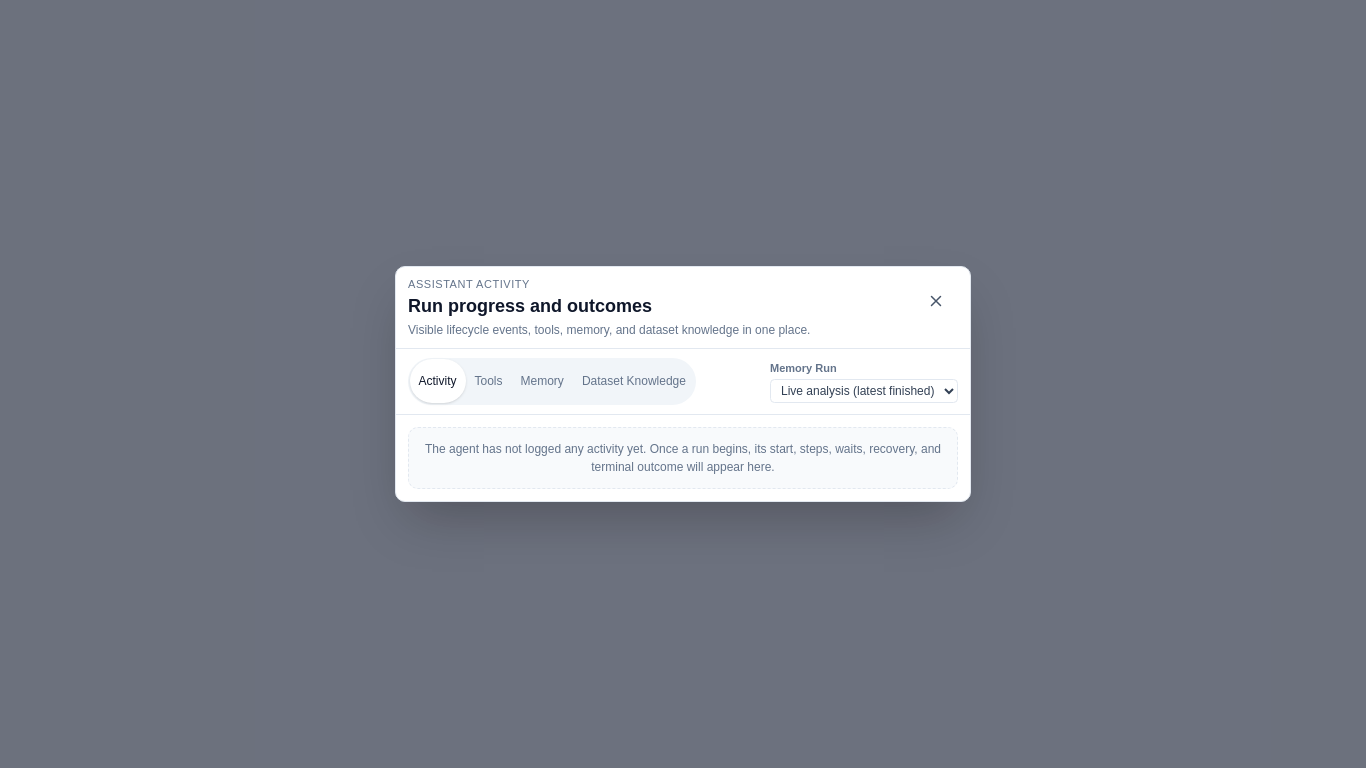
Test: agent monitor progressive disclosure › keeps tool payloads collapsed until technical details are requested
Click the button "Tools".
click(488, 381)  # box [466, 359, 512, 403]
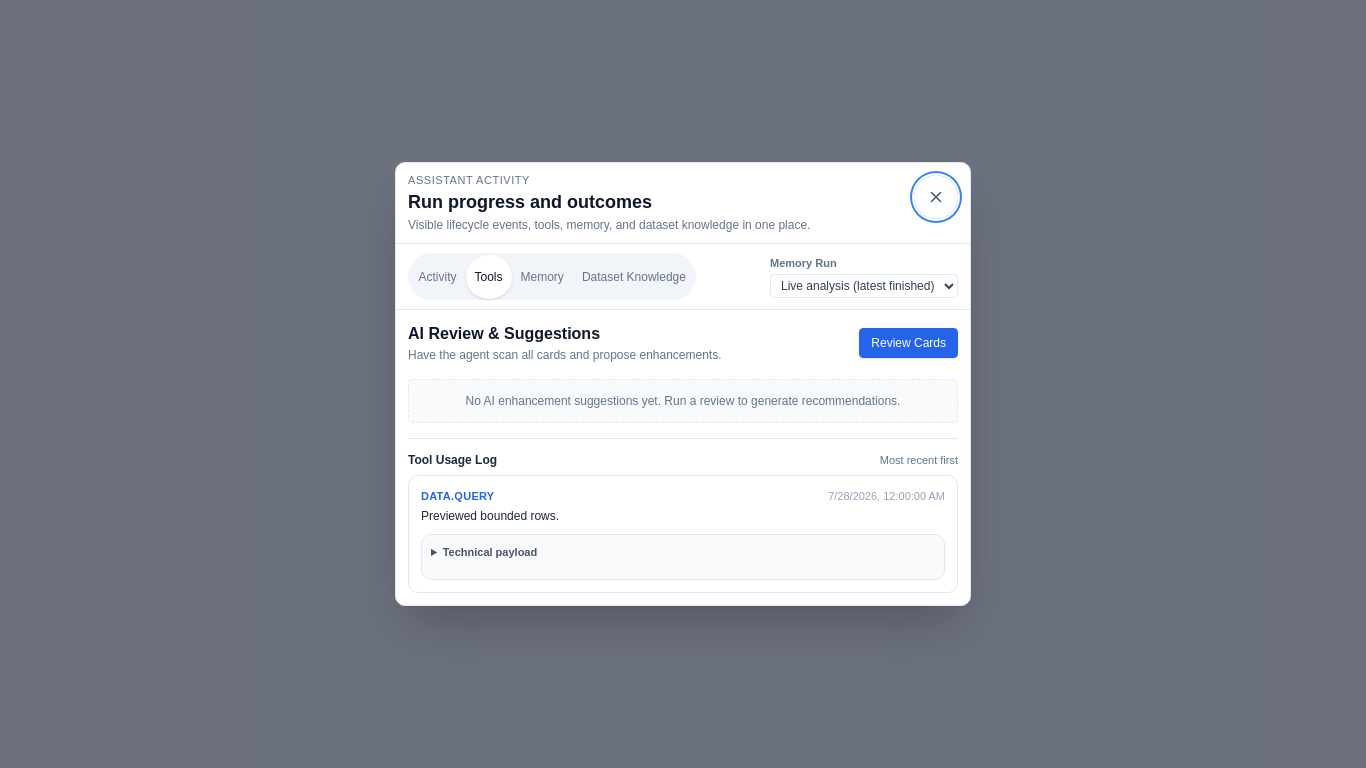
Now the text "Previewed bounded rows." is shown, box [421, 509, 559, 523]
